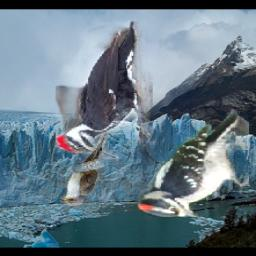Cuckoo: (60, 131, 109, 206)
Woodpecker: (56, 21, 153, 160), (136, 109, 249, 221)
